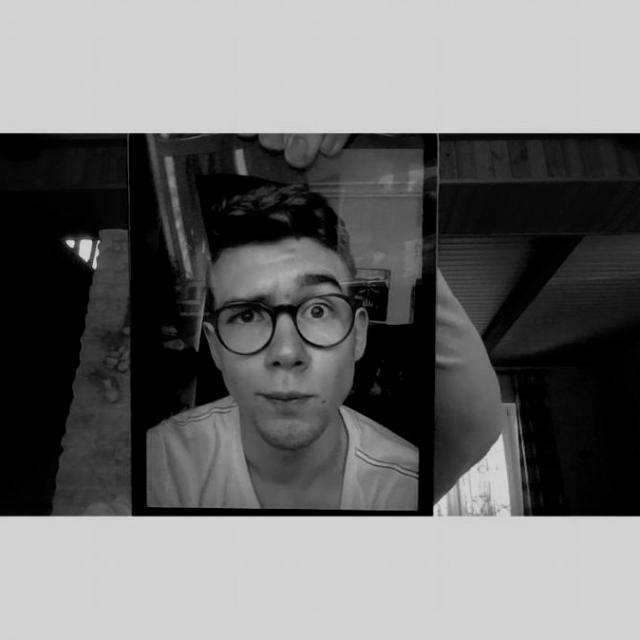fake: (126, 132, 436, 515)
